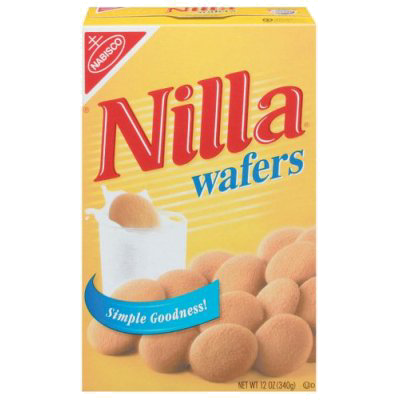grozi_77: (80, 0, 318, 394)
